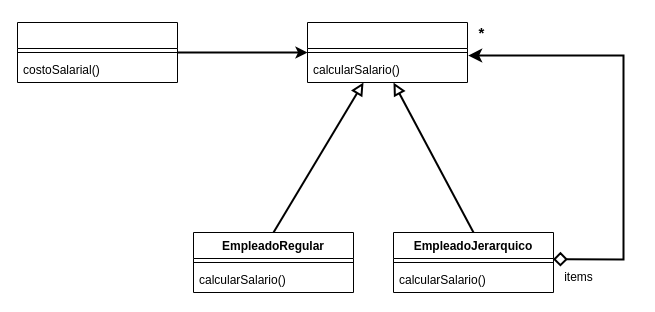
This 655x312 diagram has some shape labels left out. Each missing label, with the box of its shape:
Empleado: (306, 22, 468, 82)
LaserX: (16, 22, 178, 82)
